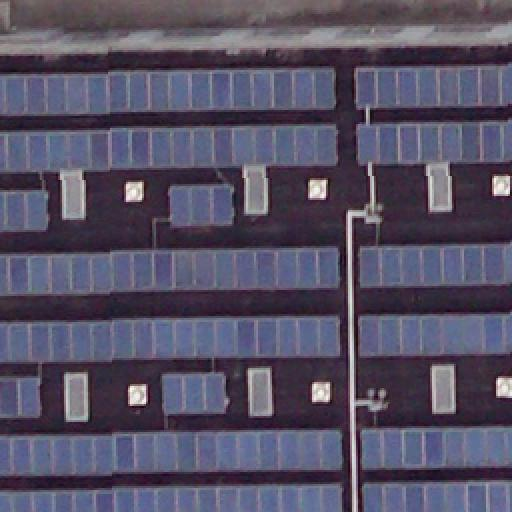solar-panel: (1, 124, 335, 176), (1, 428, 343, 476), (0, 314, 336, 362), (0, 249, 336, 295), (1, 69, 335, 115), (1, 484, 343, 512), (353, 120, 511, 168), (353, 64, 511, 112), (360, 422, 512, 470), (356, 244, 512, 288), (358, 312, 512, 356), (361, 480, 511, 512), (168, 187, 232, 229), (162, 374, 226, 414), (1, 191, 47, 233), (0, 375, 40, 417)
